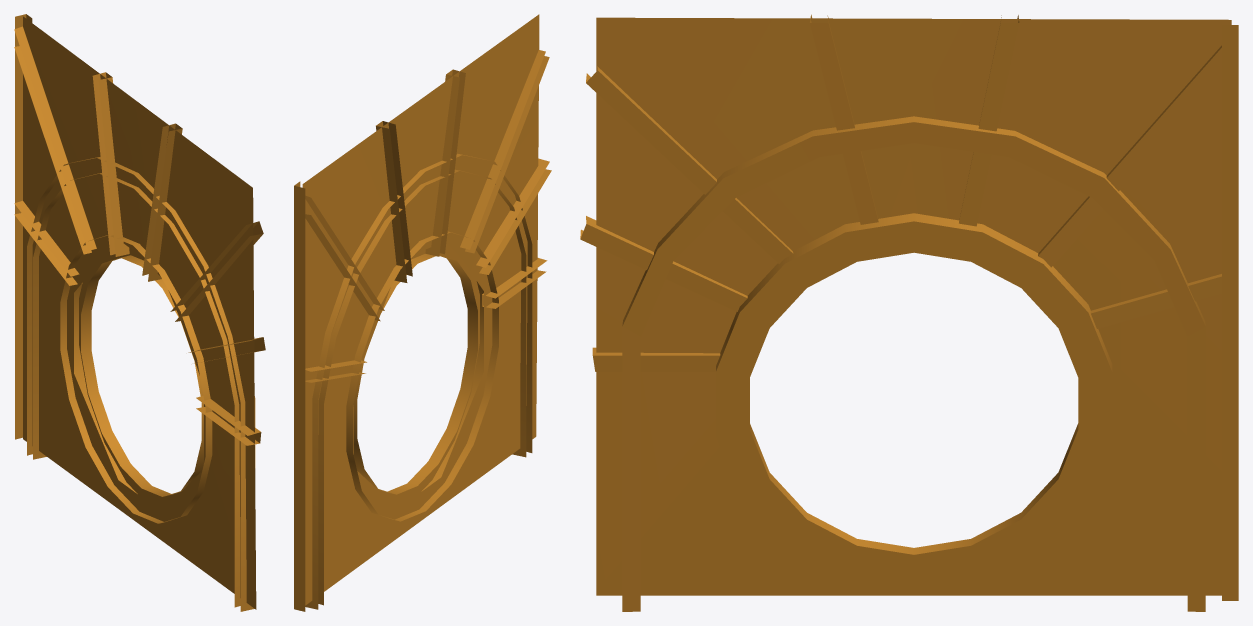
File: wall_door 1.FBX
3 views of the same model, side by side, from view 1: azimuth 30°, elevation 25°; view 2: azimuth 150°, elevation 25°; view 3: azimuth 270°, elevation 25° (orthographic). The views are drawn at different scales.
Parts seen in each view (by area): view 1: wall_door; view 2: wall_door; view 3: wall_door.
Part boxes in pixels (x1,y1,x2,y2): wall_door: (14,14,265,611); wall_door: (294,14,551,611); wall_door: (580,14,1238,611).
Size of the model in its own units: 5.47 by 102 by 104.
